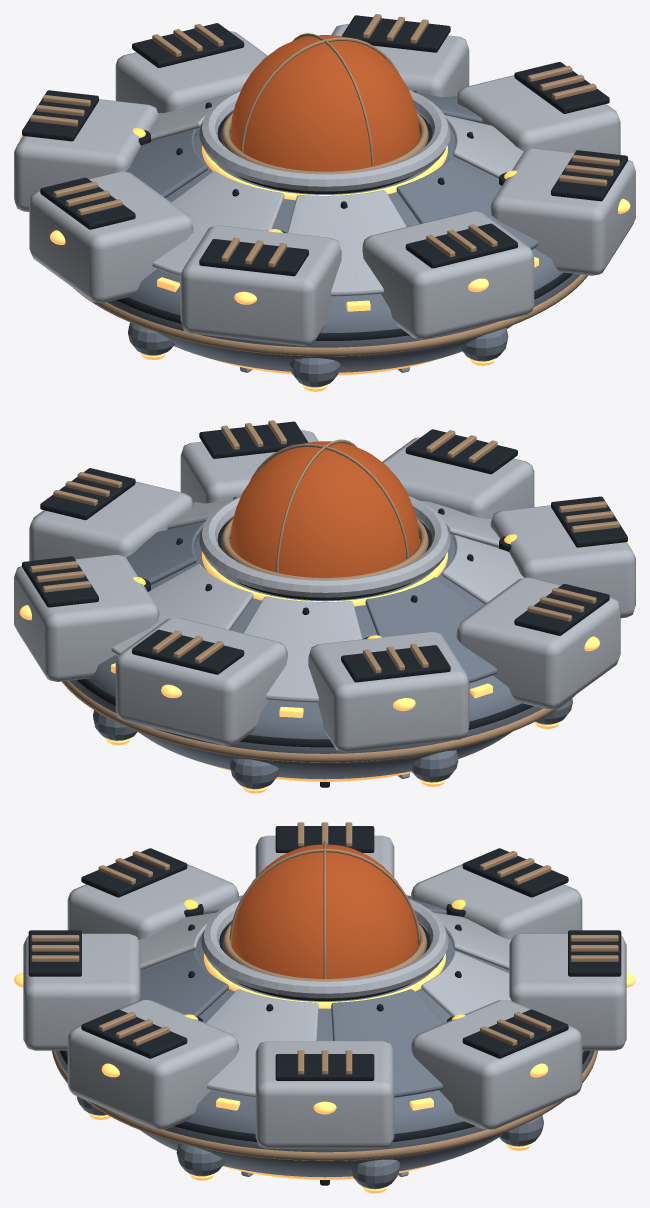
File: ufo-tank.glb
3 renders of one model, top to bottom at view 1: azimuth 30°, elevation 25°; view 2: azimuth 150°, elevation 25°; view 3: azimuth 270°, elevation 25°, orthographic.
Parts seen in each view (by area): view 1: Class Hardware, Upper Rotor, Alien Hull; view 2: Class Hardware, Upper Rotor, Alien Hull; view 3: Class Hardware, Upper Rotor, Alien Hull.
Boxes of the visible parts, x1=… form: Class Hardware: x1=14, y1=14, x2=635, y2=346; Upper Rotor: x1=125, y1=33, x2=538, y2=311; Alien Hull: x1=73, y1=128, x2=587, y2=391; Class Hardware: x1=14, y1=420, x2=635, y2=752; Upper Rotor: x1=111, y1=439, x2=523, y2=717; Alien Hull: x1=62, y1=534, x2=575, y2=793; Class Hardware: x1=14, y1=822, x2=635, y2=1148; Upper Rotor: x1=138, y1=841, x2=511, y2=1110; Alien Hull: x1=52, y1=936, x2=597, y2=1193.
Size of the model in its own units: 2.33 by 1.28 by 2.33.
